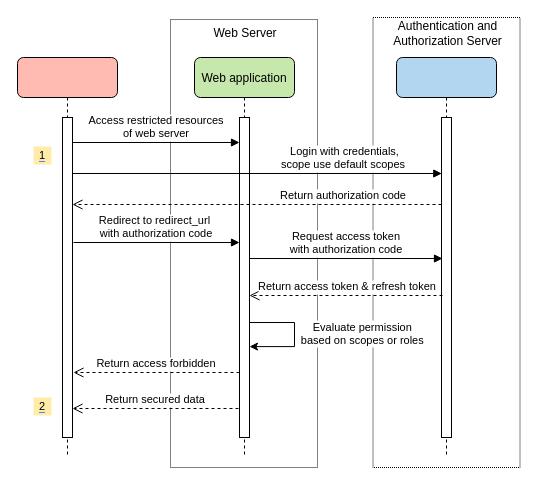
The diagram is 538 pixels wide and 485 high, and some of its shapes have lost their labels. The box of each missing label's shape, as (x1, y1, x2, y2) in pixels:
Azure AD: (396, 56, 496, 458)
Browser: (16, 56, 118, 458)
